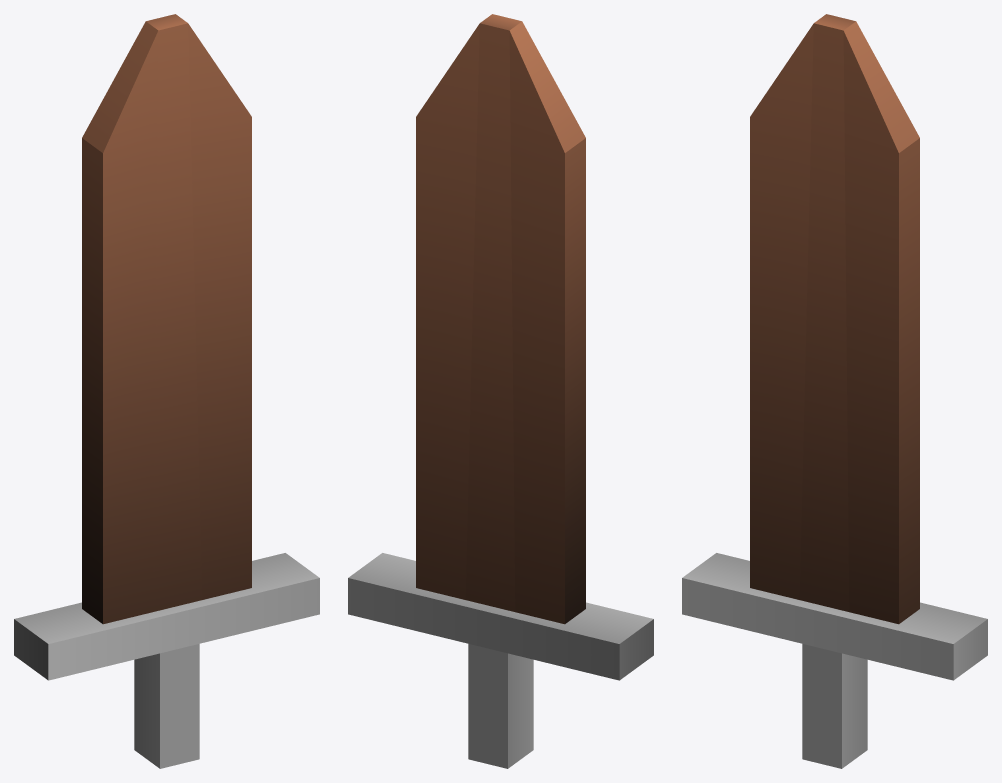
The model's file is Lv1Sword.glb.
The picture shows the model from 3 angles, left to right: view 1: azimuth 30°, elevation 25°; view 2: azimuth 150°, elevation 25°; view 3: azimuth 330°, elevation 25°; orthographic projection.
Parts seen in each view (by area): view 1: Cube; view 2: Cube; view 3: Cube.
Part boxes in pixels (x1,y1,x2,y2): Cube: (14,14,319,768); Cube: (348,14,653,768); Cube: (682,14,987,768).
Bounding box in the file's own units: 1.13 × 2.9 × 0.247.
Materials: 1 (1 with a texture image).
